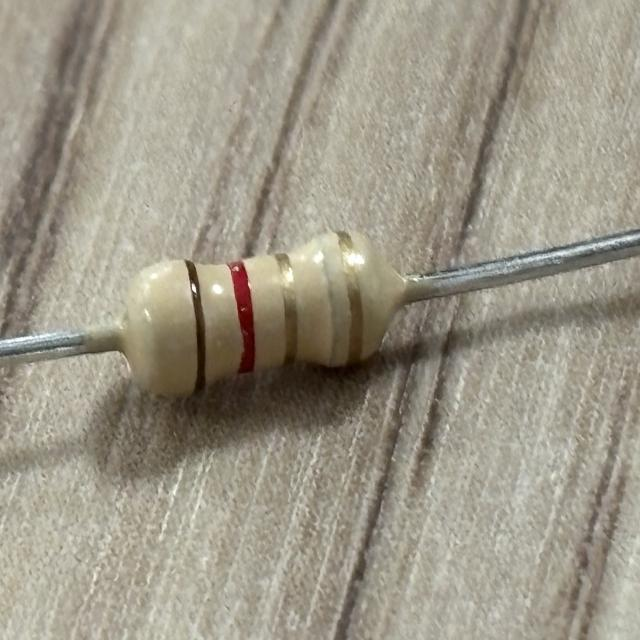resistor: (125, 223, 400, 412)
